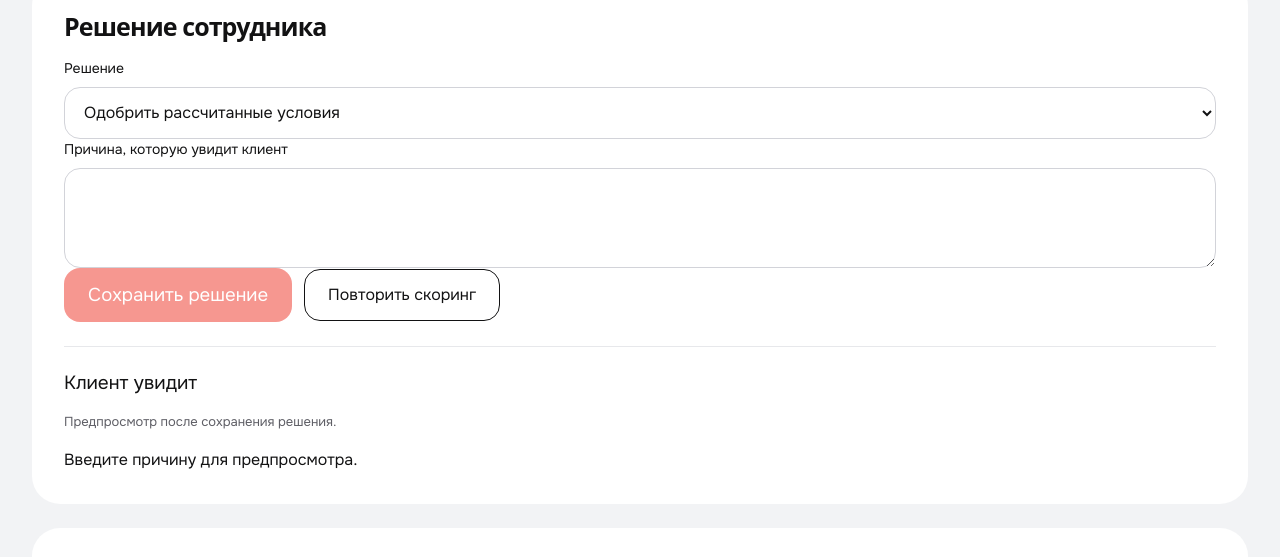
does not invent preview terms or a reason
(page scrolled)
Expected: the element "Клиент увидит" shows "Введите причину для предпросмотра.", x1=64 y1=448 x2=358 y2=470
Type "Причина" into the text box labelled "Причина, которую увидит клиент" at [640, 218], box x1=64 y1=168 x2=1216 y2=268
(page scrolled)
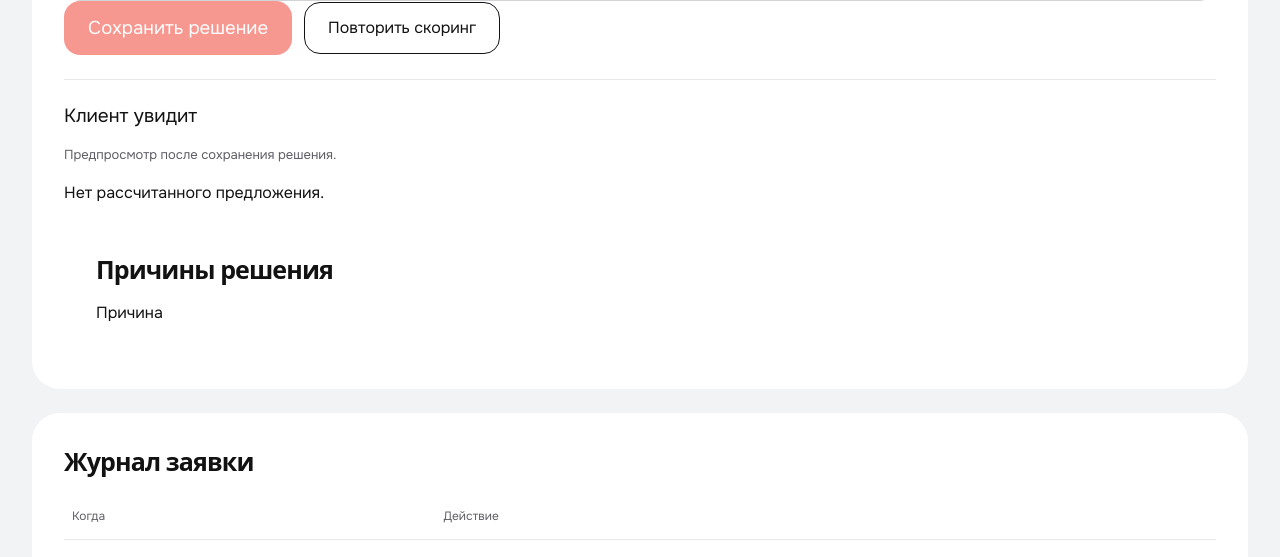
Expected: the element "Клиент увидит" shows "Нет рассчитанного предложения.", x1=64 y1=182 x2=324 y2=202
